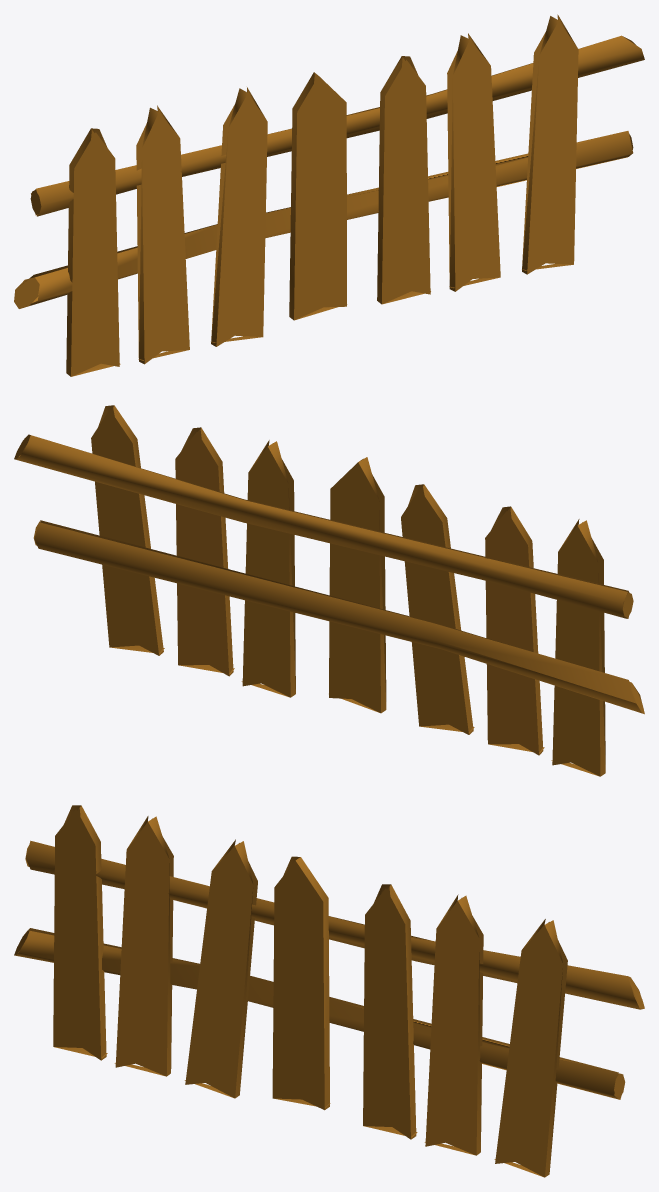
File: fence.glb
3 renders of one model, top to bottom at view 1: azimuth 30°, elevation 25°; view 2: azimuth 150°, elevation 25°; view 3: azimuth 330°, elevation 25°, orthographic.
Visible parts, largest first — view 1: default2_Material_0; view 2: default2_Material_0; view 3: default2_Material_0.
Part boxes in pixels (box(x1,y1,x2,y2)): default2_Material_0: box(14, 14, 644, 376); default2_Material_0: box(14, 405, 644, 776); default2_Material_0: box(14, 805, 644, 1177).
Size of what is drawn, in the model's own units: 2.68 by 1.03 by 0.1836.
